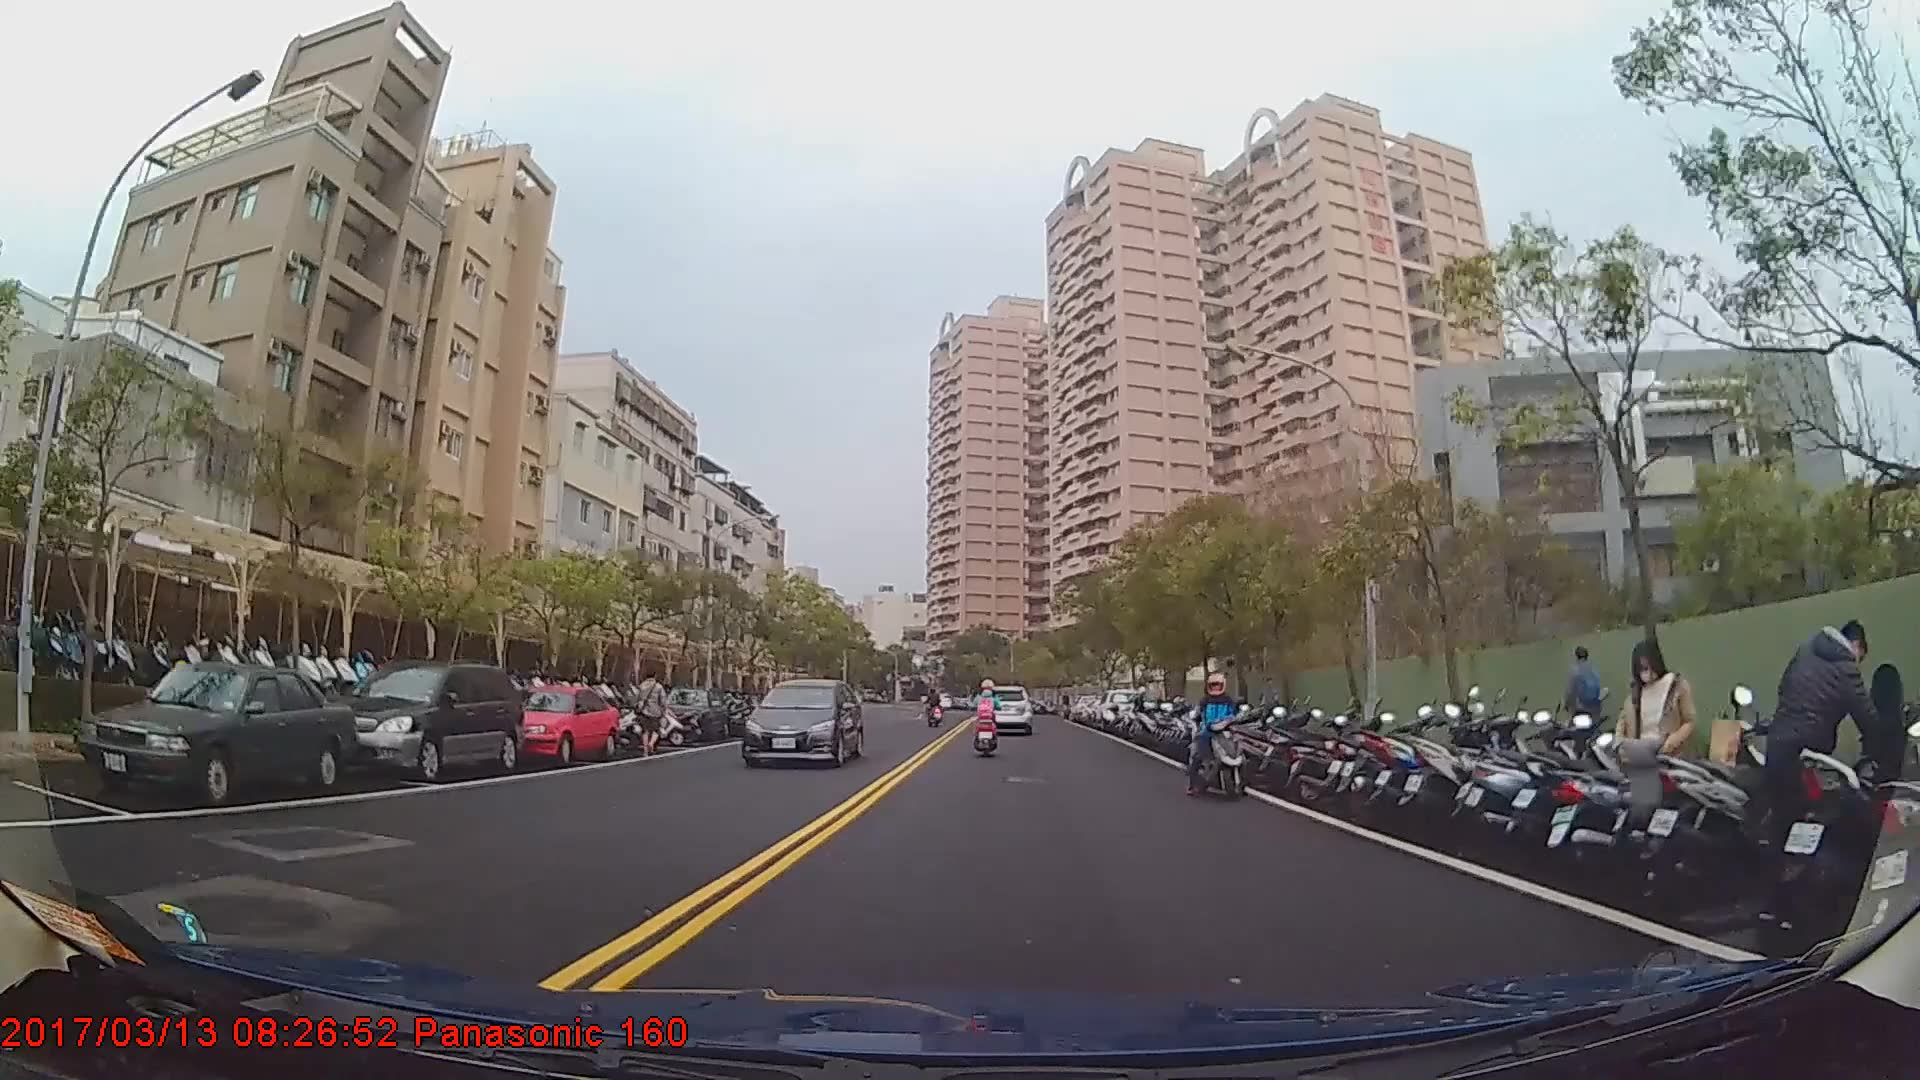pedestrian: (1761, 617, 1888, 901), (1616, 635, 1700, 882), (1564, 638, 1608, 781), (624, 668, 675, 768)
rider: (1185, 674, 1250, 803), (969, 680, 1001, 755), (924, 689, 944, 727)
vehicle: (77, 661, 351, 801), (317, 661, 525, 782), (742, 676, 865, 769), (499, 686, 620, 766), (656, 685, 727, 743), (980, 684, 1033, 738), (1092, 686, 1148, 731)
